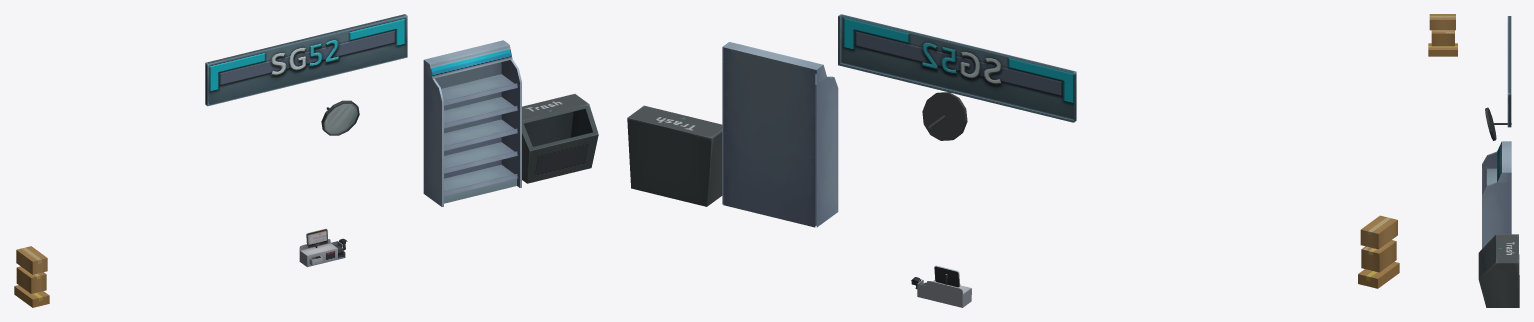
File: Conveniance_Mod.fbx
The picture shows the model from 3 angles, left to right: view 1: azimuth 30°, elevation 25°; view 2: azimuth 150°, elevation 25°; view 3: azimuth 270°, elevation 25°; orthographic projection. The views are drawn at different scales.
Visible parts, largest first — view 1: DisplayStand_Drink, Signboard, TrashBin, CashierMachine, Mirror, Box_006, Box_005, Box_004; view 2: DisplayStand_Drink, Signboard, TrashBin, Mirror, CashierMachine, Box_006, Box_005, Box_004; view 3: TrashBin, DisplayStand_Drink, Signboard, Box_006, Box_005, Box_004, Mirror.
Part boxes in pixels (x1,y1,x2,y2): DisplayStand_Drink: (423,40,521,206); Signboard: (205,14,407,106); TrashBin: (522,94,598,183); CashierMachine: (299,228,347,267); Mirror: (321,100,359,135); Box_006: (16,246,47,274); Box_005: (16,266,46,293); Box_004: (14,285,49,307); DisplayStand_Drink: (722,42,838,227); Signboard: (838,14,1076,122); TrashBin: (627,105,722,206); Mirror: (922,92,967,140); CashierMachine: (911,265,971,307); Box_006: (1360,215,1397,249); Box_005: (1361,240,1396,272); Box_004: (1358,262,1399,288); TrashBin: (1478,234,1519,307); DisplayStand_Drink: (1482,141,1511,248); Signboard: (1507,16,1511,127); Box_006: (1429,14,1455,30); Box_005: (1431,30,1454,46); Box_004: (1428,43,1457,56); Mirror: (1485,107,1511,140).
Bounding box in the file's own units: 1198 × 424 × 197.
